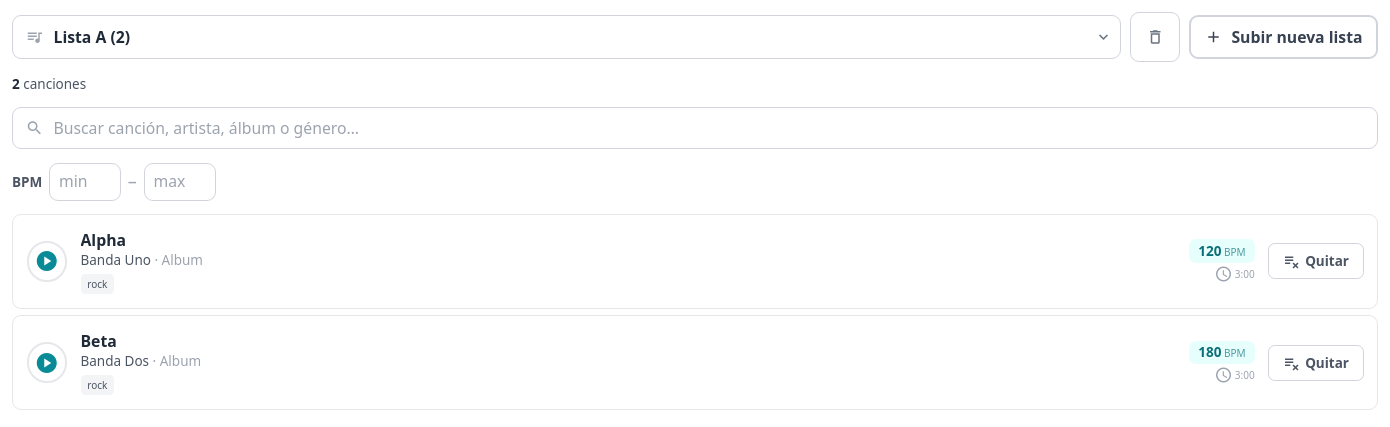
Test: MyListsTab (editor con selector) › el filtro de BPM filtra por tempo
Type "150" into the number field named "BPM mínimo" at point(85, 182), box [49,162,121,200]
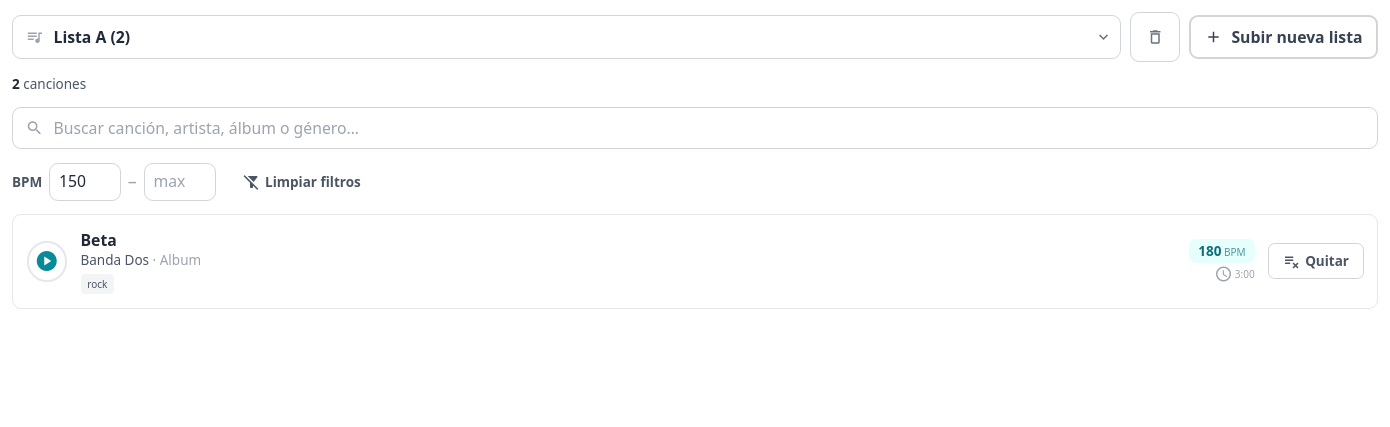
Expected: the text "Beta" is shown, [80,228,117,250]
Result: the text "Alpha" is gone
